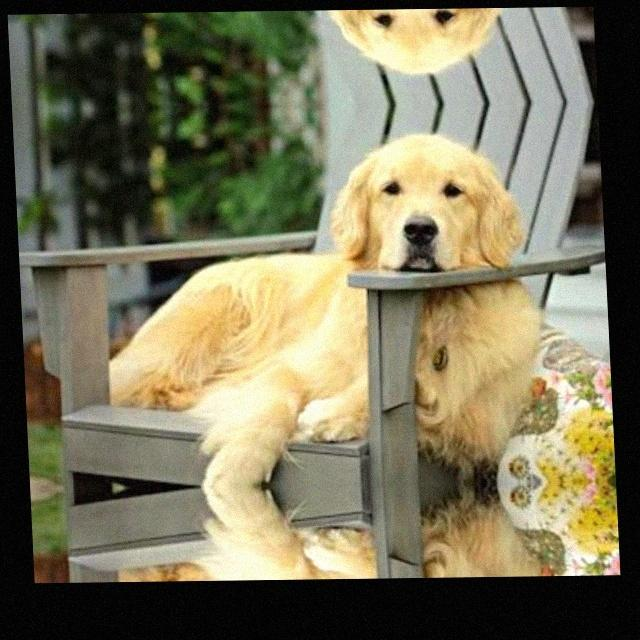dog: (107, 130, 516, 487), (124, 483, 520, 582), (101, 8, 497, 80)
